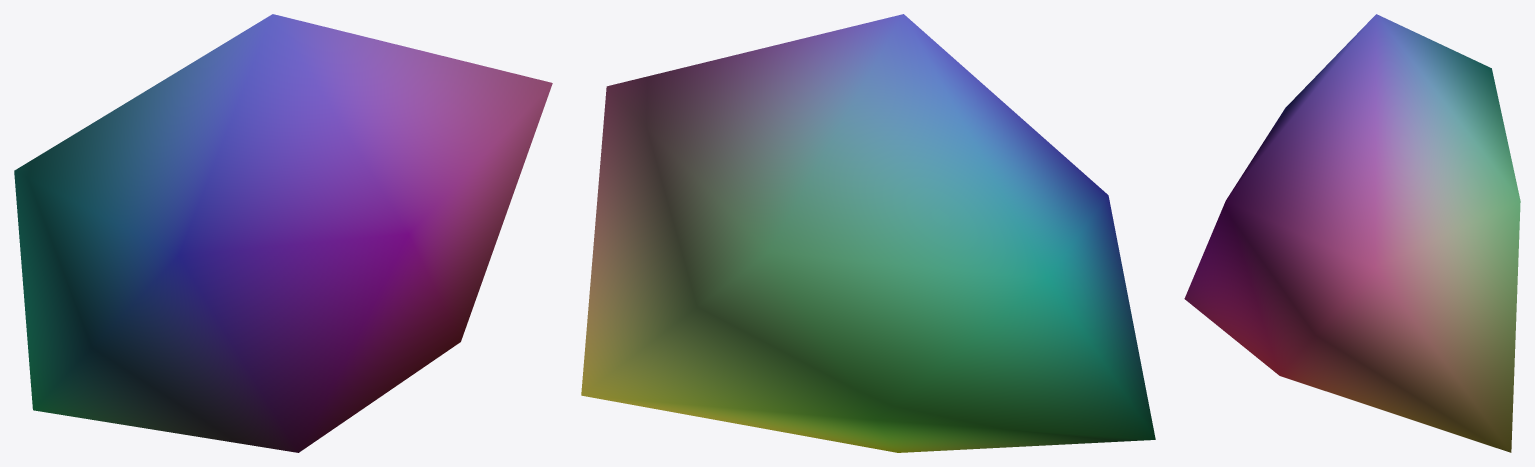
The model's file is SM_FX_Rock_B.fbx.
3 views of the same model, side by side, from view 1: azimuth 30°, elevation 25°; view 2: azimuth 150°, elevation 25°; view 3: azimuth 270°, elevation 25° (orthographic). The views are drawn at different scales.
Visible parts, largest first — view 1: SM_FX_Rock_B; view 2: SM_FX_Rock_B; view 3: SM_FX_Rock_B.
Boxes of the visible parts, box(x1,y1,x2,y2) form: SM_FX_Rock_B: box(14, 14, 552, 452); SM_FX_Rock_B: box(581, 14, 1155, 452); SM_FX_Rock_B: box(1184, 14, 1520, 452).
Bounding box in the file's own units: 0.1653 × 0.1251 × 0.1001.
